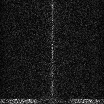wifi: (1, 98, 104, 104)
